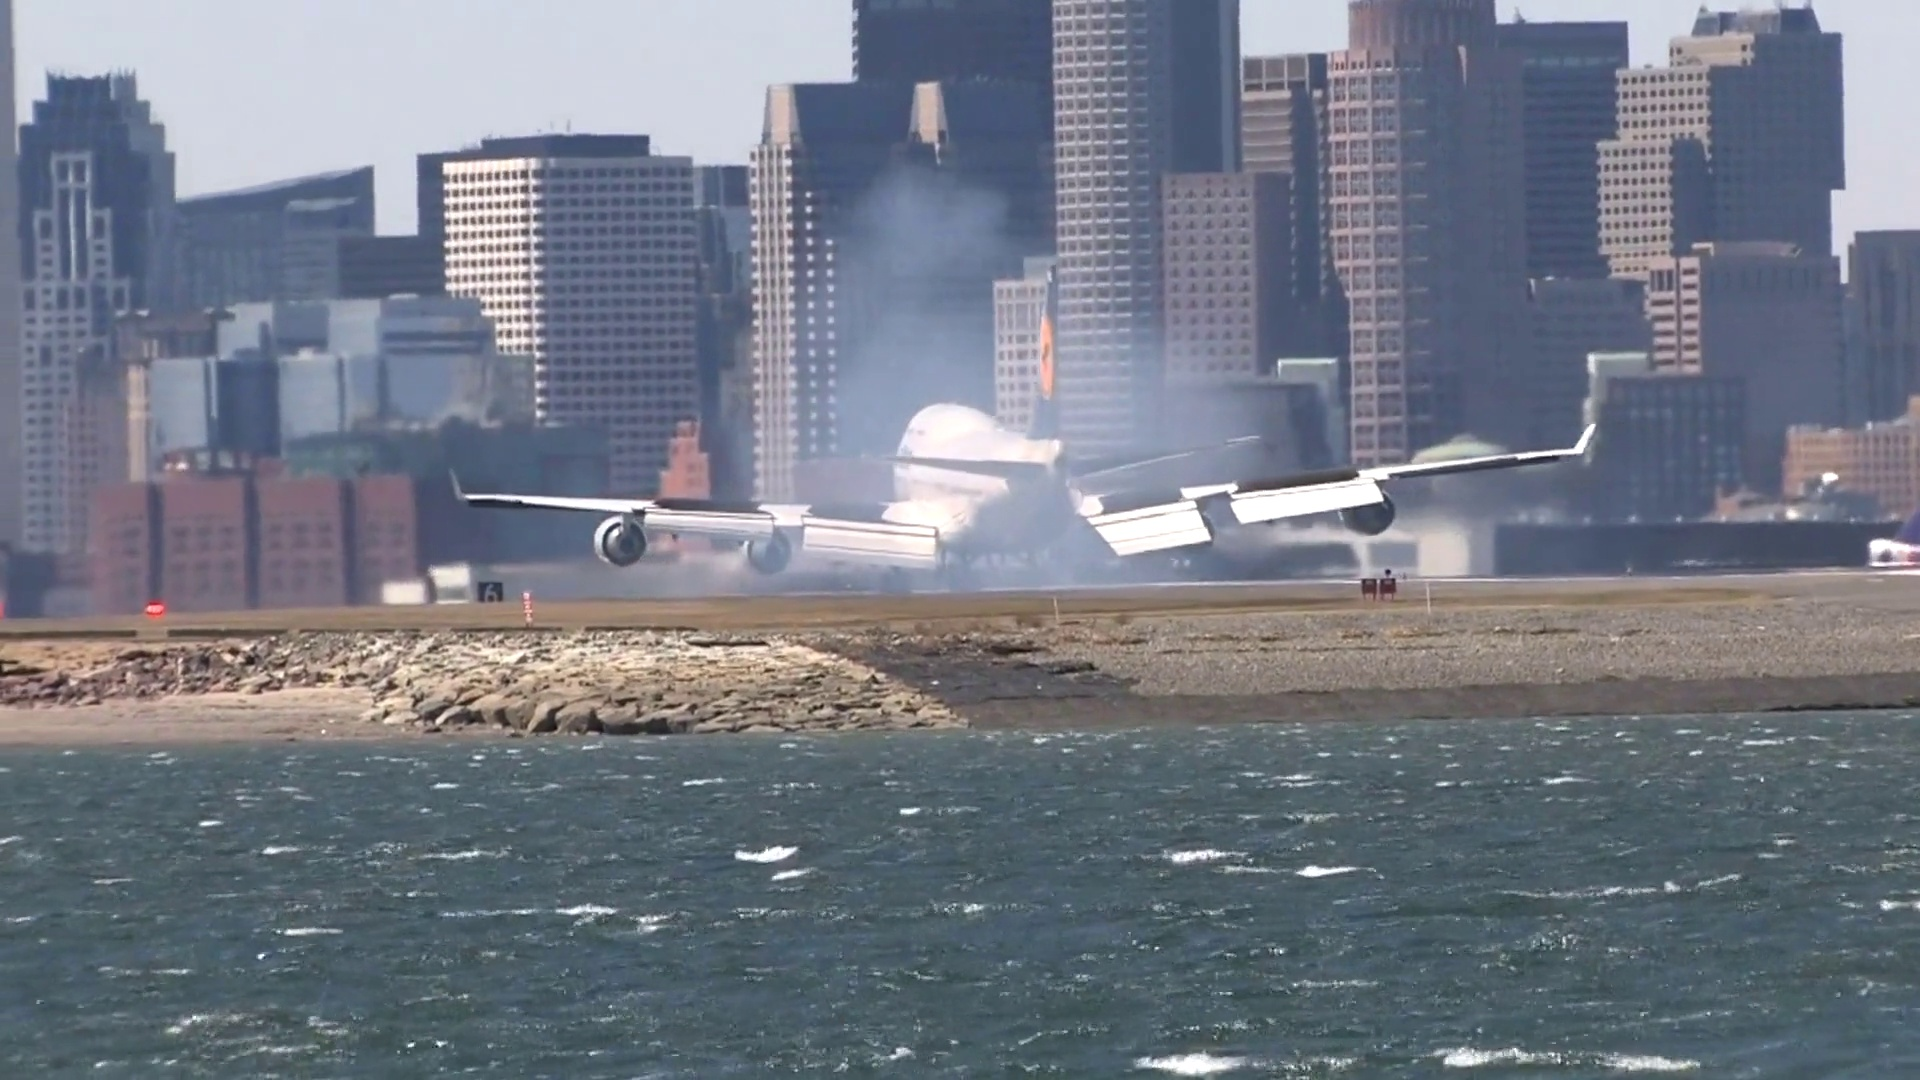plane: (450, 264, 1597, 579)
